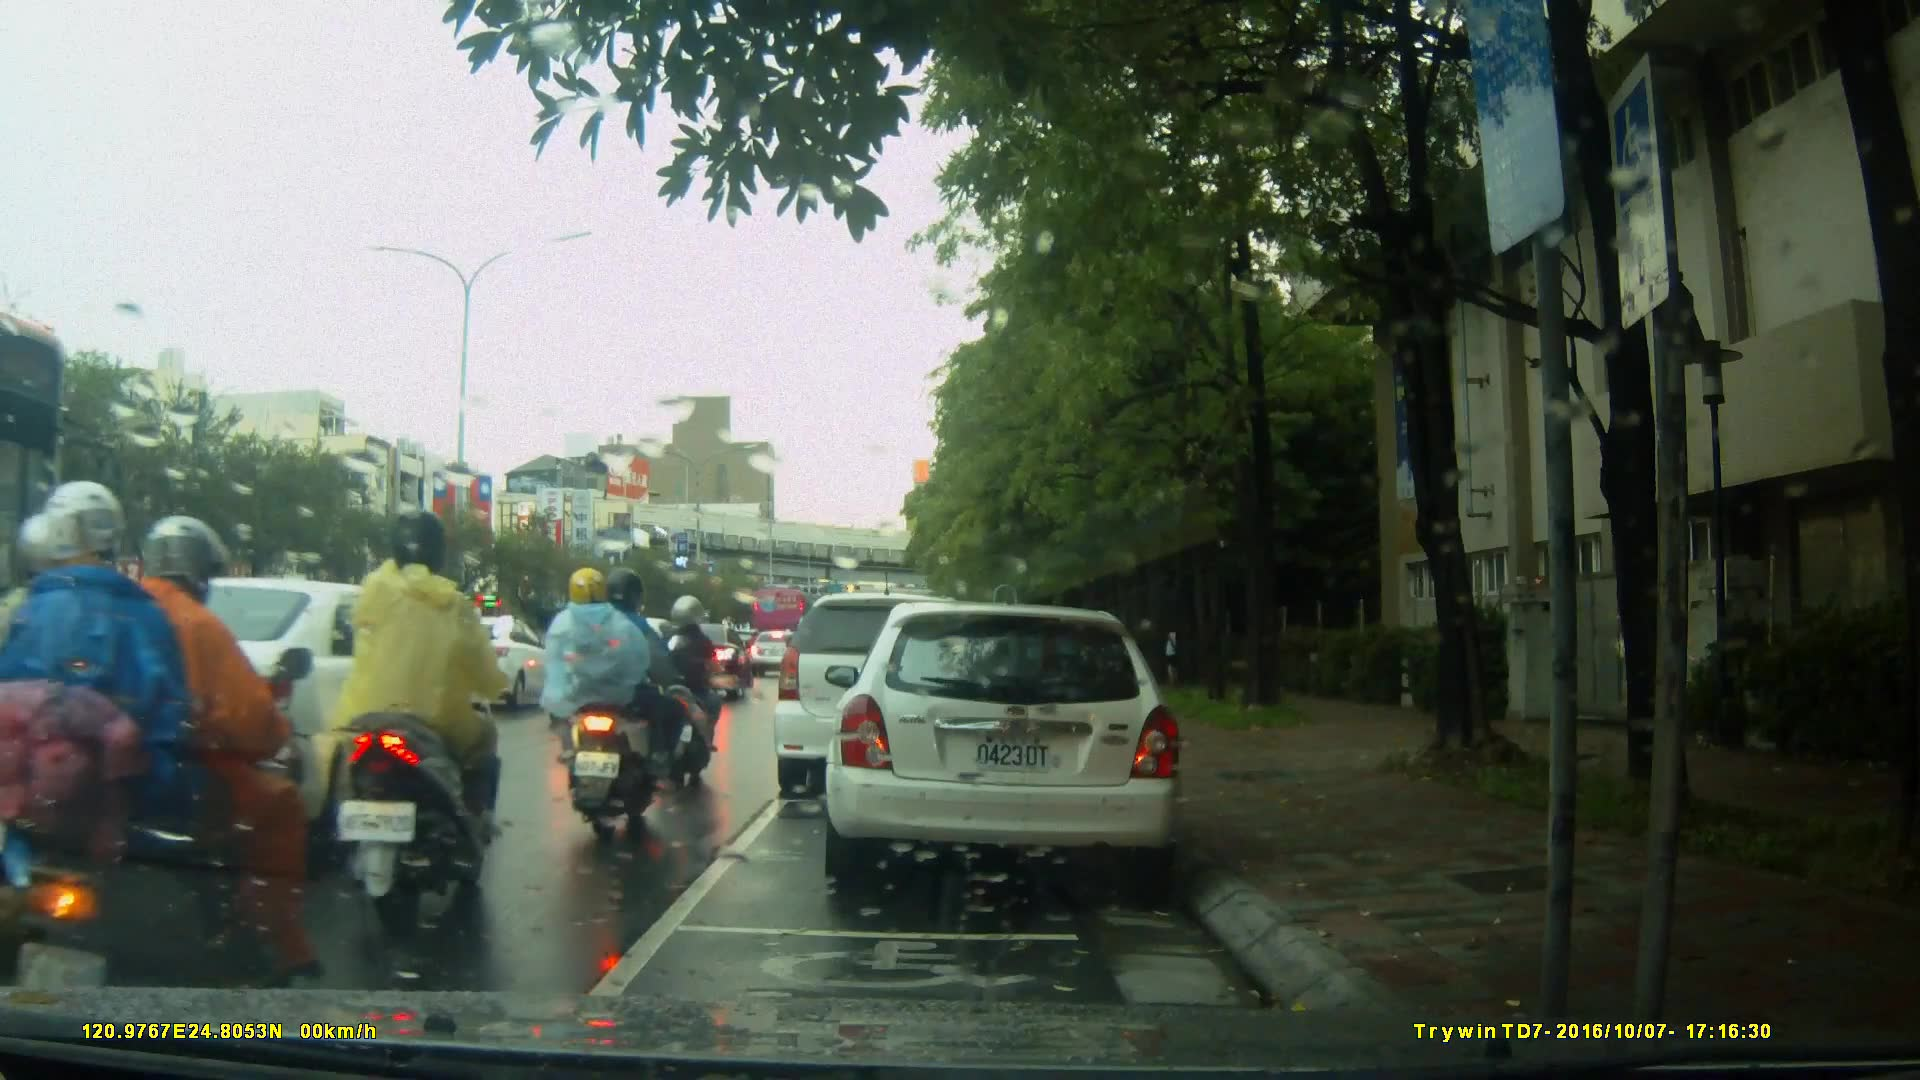rider: (1, 476, 320, 1037), (315, 504, 513, 929), (542, 562, 682, 838), (628, 592, 724, 807)
vehicle: (38, 575, 465, 833), (835, 594, 1194, 898), (776, 590, 1026, 784), (643, 617, 758, 701)
